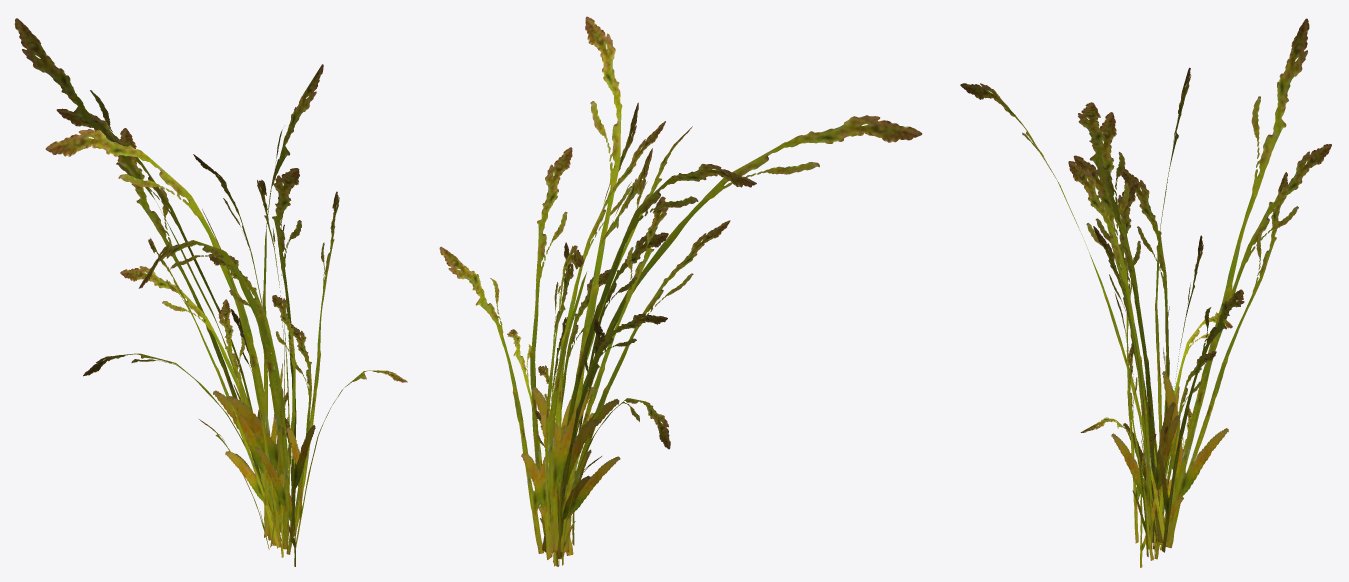
File: wheat_clump.glb
The picture shows the model from 3 angles, left to right: view 1: azimuth 30°, elevation 25°; view 2: azimuth 150°, elevation 25°; view 3: azimuth 270°, elevation 25°; orthographic projection. The views are drawn at different scales.
Visible parts, largest first — view 1: Material_Mat; view 2: Material_Mat; view 3: Material_Mat.
Part boxes in pixels (left/top/right/bottom): Material_Mat: left=14, top=18, right=407, bottom=566; Material_Mat: left=439, top=16, right=922, bottom=566; Material_Mat: left=960, top=18, right=1331, bottom=567.
Size of the model in its own units: 0.607 by 0.9 by 0.6517.
Materials: 1 (1 with a texture image).
